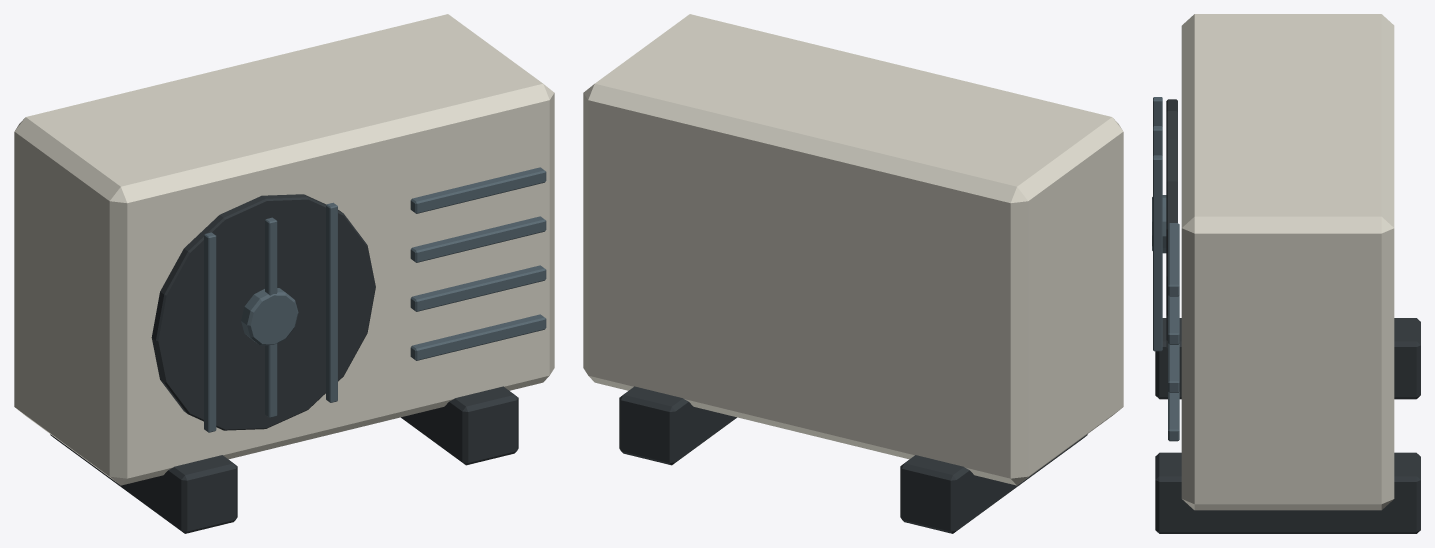
The model's file is BH_AC_Outdoor.glb.
3 renders of one model, left to right at view 1: azimuth 30°, elevation 25°; view 2: azimuth 150°, elevation 25°; view 3: azimuth 270°, elevation 25°, orthographic.
Visible parts, largest first — view 1: BH_AC_Outdoor_RenderMesh; view 2: BH_AC_Outdoor_RenderMesh; view 3: BH_AC_Outdoor_RenderMesh.
Boxes of the visible parts, <box> form: BH_AC_Outdoor_RenderMesh: <box>14,14,554,533</box>; BH_AC_Outdoor_RenderMesh: <box>583,14,1123,533</box>; BH_AC_Outdoor_RenderMesh: <box>1152,14,1420,533</box>.
Size of what is drawn, in the model's own units: 0.95 by 0.705 by 0.506.
